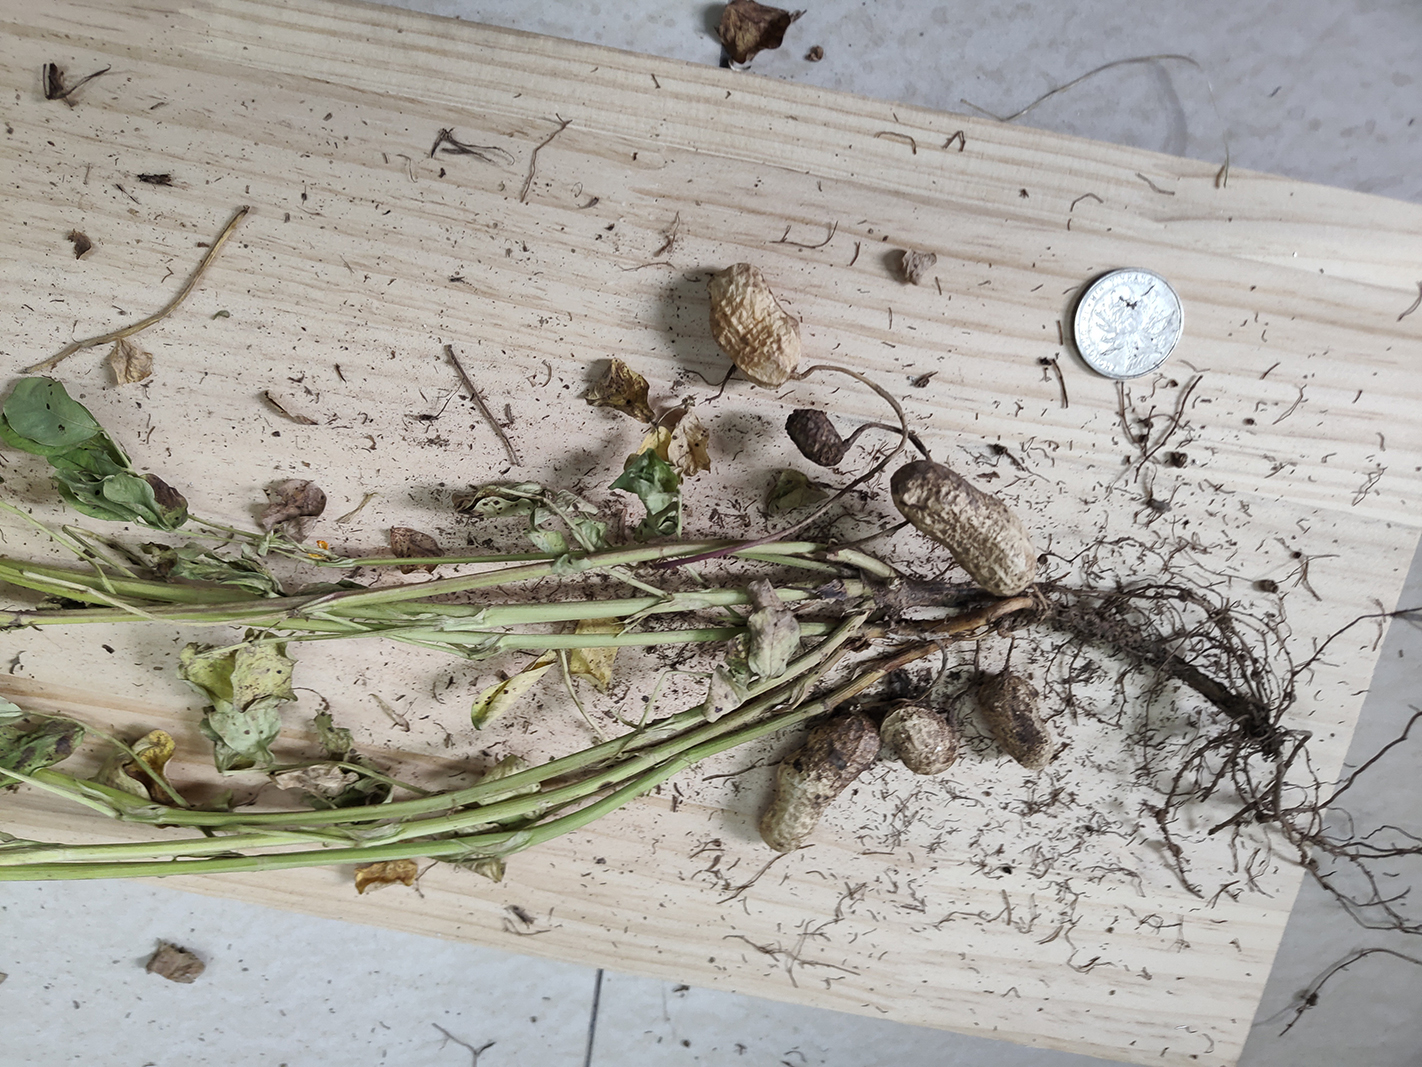h: (892, 461, 1038, 596), (758, 713, 881, 851), (710, 263, 802, 387), (883, 702, 957, 771)
l: (980, 675, 1051, 768), (784, 409, 845, 465)
